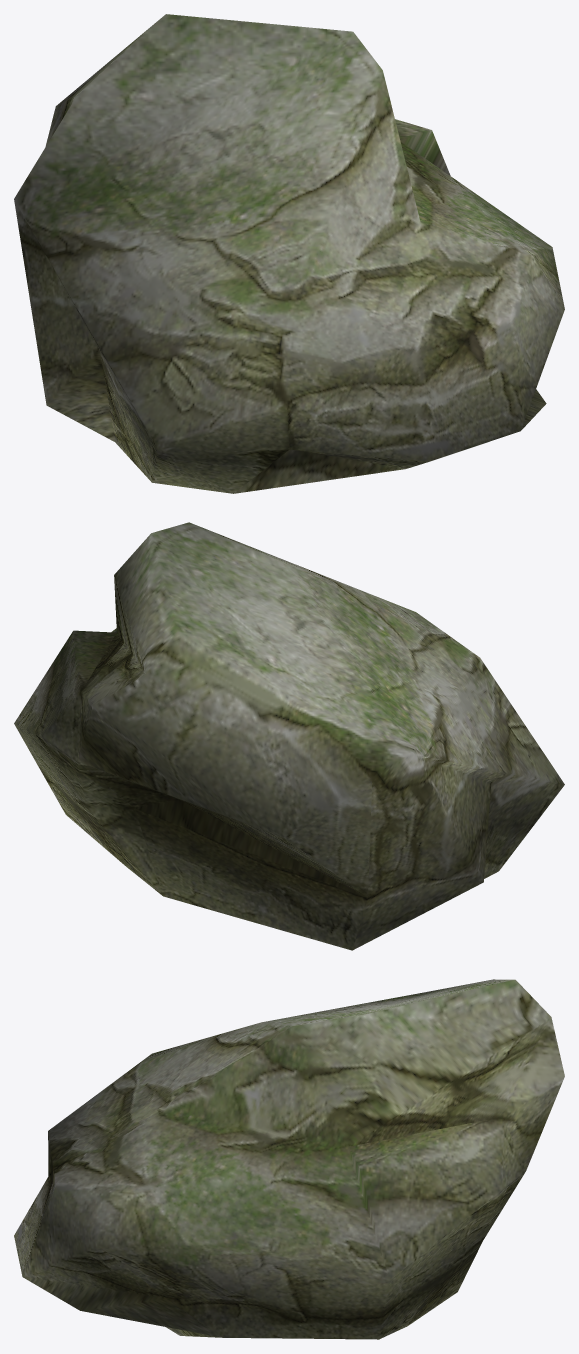
Rendered from GongYong_SuiShi_4.fbx.
3 renders of one model, top to bottom at view 1: azimuth 30°, elevation 25°; view 2: azimuth 150°, elevation 25°; view 3: azimuth 270°, elevation 25°, orthographic. The views are drawn at different scales.
Visible parts, largest first — view 1: GongYong_SuiShi_4; view 2: GongYong_SuiShi_4; view 3: GongYong_SuiShi_4.
Part boxes in pixels (x1,y1,x2,y2): GongYong_SuiShi_4: (14, 14, 564, 493); GongYong_SuiShi_4: (14, 522, 564, 950); GongYong_SuiShi_4: (14, 979, 564, 1339).
Size of the model in its own units: 97.16 by 70.1 by 107.
